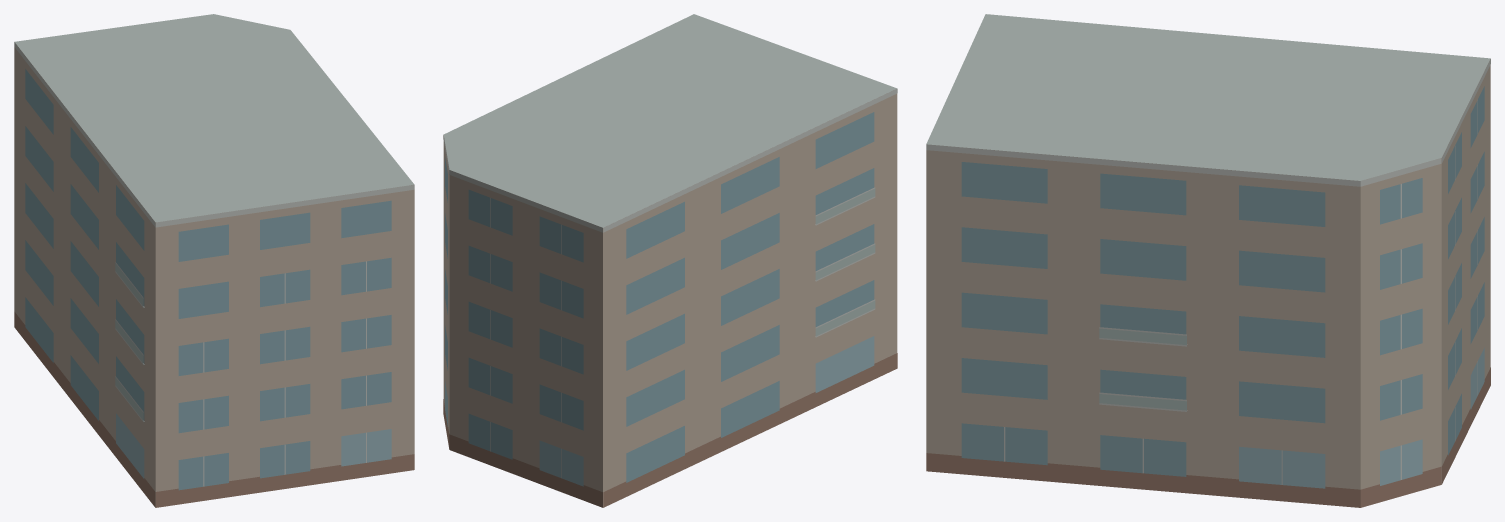
The model's file is survey-upis-32668474.glb.
3 renders of one model, left to right at view 1: azimuth 30°, elevation 25°; view 2: azimuth 150°, elevation 25°; view 3: azimuth 270°, elevation 25°, orthographic. The views are drawn at different scales.
Visible parts, largest first — view 1: survey-upis-32668474.tmp; view 2: survey-upis-32668474.tmp; view 3: survey-upis-32668474.tmp.
Boxes of the visible parts, left/top/right/bottom form: survey-upis-32668474.tmp: left=14, top=14, right=414, bottom=507; survey-upis-32668474.tmp: left=443, top=14, right=897, bottom=507; survey-upis-32668474.tmp: left=926, top=14, right=1490, bottom=507.
Bounding box in the file's own units: 15.07 × 13.75 × 21.53.
